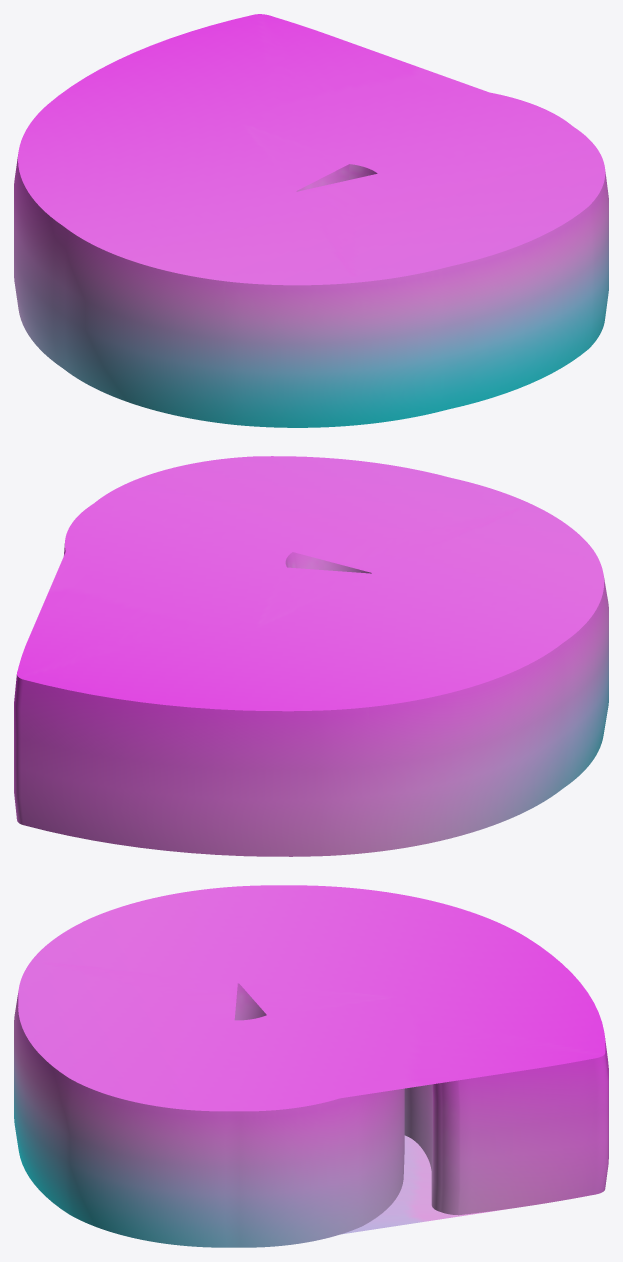
3 renders of one model, top to bottom at view 1: azimuth 30°, elevation 25°; view 2: azimuth 150°, elevation 25°; view 3: azimuth 270°, elevation 25°, orthographic. The views are drawn at different scales.
Visible parts, largest first — view 1: Curve.006; view 2: Curve.006; view 3: Curve.006.
Boxes of the visible parts, bbox=[...] form: Curve.006: bbox=[14, 14, 608, 427]; Curve.006: bbox=[14, 456, 608, 856]; Curve.006: bbox=[14, 885, 608, 1247].
Size of the model in its own units: 40.95 by 11.36 by 44.95.
1 material, 1 textured.
